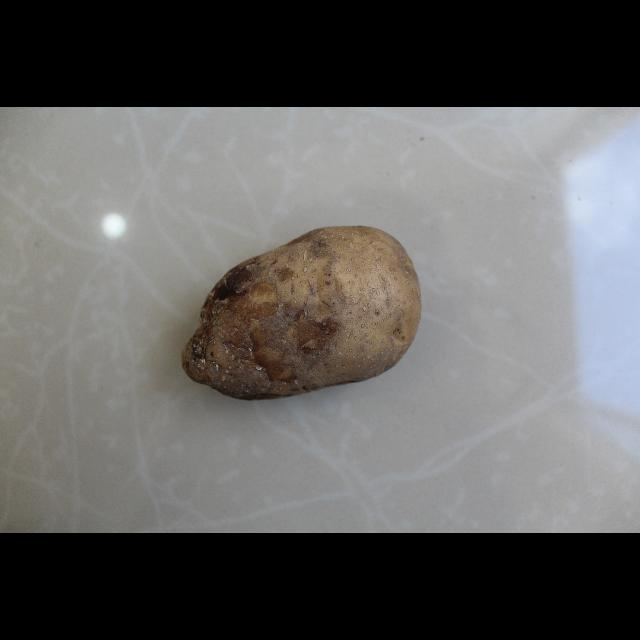Diseased-fungal potato: (182, 223, 422, 404)
